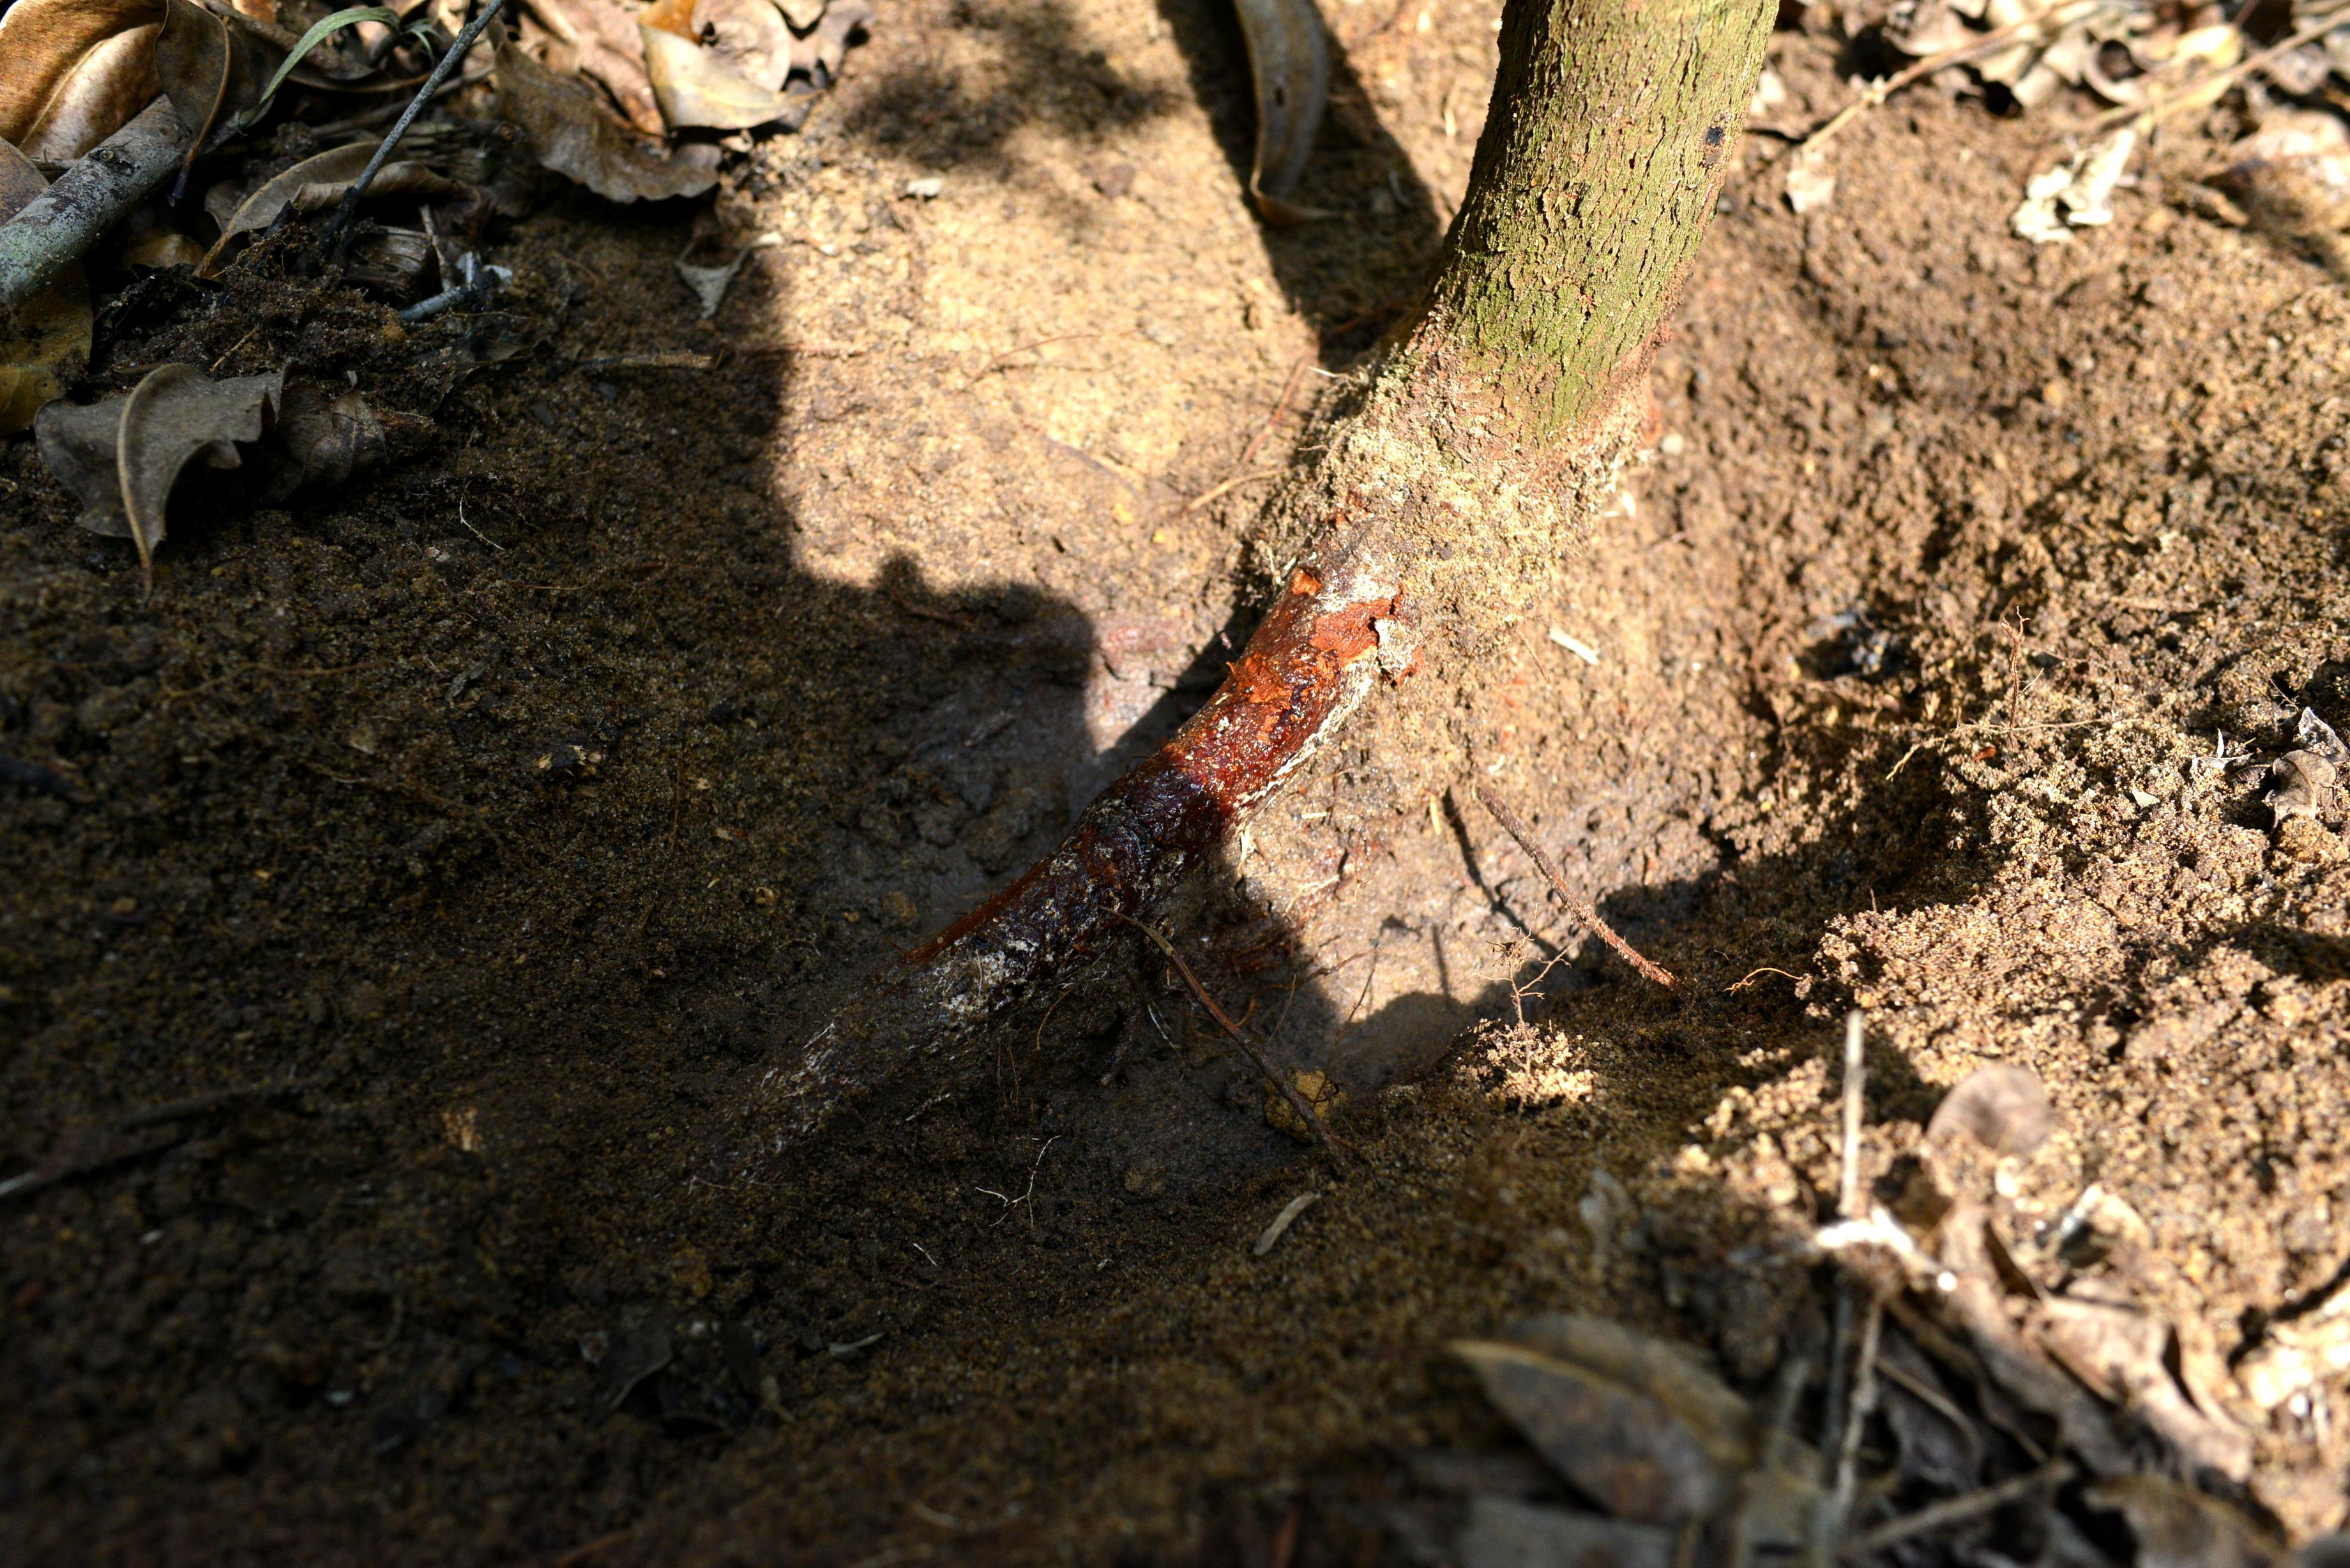Ganoderma - Mycelium: (1220, 658, 1370, 840), (910, 929, 1059, 1046), (742, 1018, 856, 1153), (1319, 553, 1393, 616)
Red Root Rot - Secretion: (1074, 560, 1409, 899)
